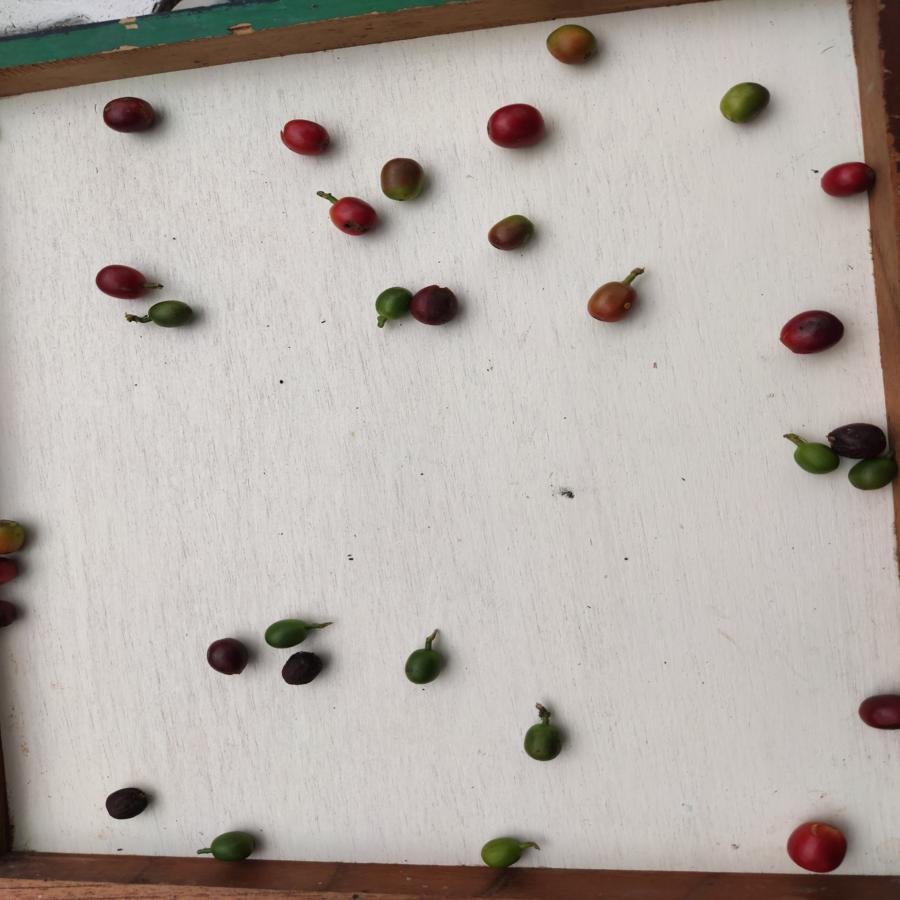Inmaduro: (201, 828, 255, 867), (400, 647, 449, 686), (845, 458, 899, 493), (482, 828, 523, 873), (524, 717, 563, 763), (259, 618, 315, 647), (147, 298, 194, 331), (792, 442, 842, 473), (370, 286, 410, 321)
Maduro: (784, 819, 850, 875), (485, 104, 545, 153), (816, 161, 877, 201), (277, 118, 339, 155), (326, 196, 379, 239)
Pinton: (714, 77, 774, 125), (584, 277, 637, 329), (544, 22, 601, 69), (379, 155, 424, 204), (484, 216, 536, 253), (1, 509, 30, 555)
Sobremaduro: (776, 309, 848, 356), (407, 282, 467, 331), (824, 420, 896, 454), (101, 97, 159, 135), (200, 635, 251, 677), (93, 264, 149, 301), (279, 651, 332, 690), (853, 691, 900, 733), (105, 787, 150, 821)
